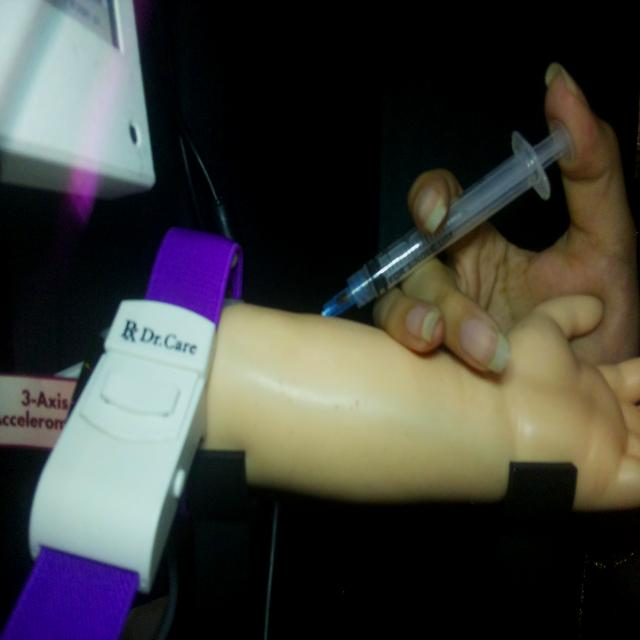26 degrees: (319, 120, 574, 320)
